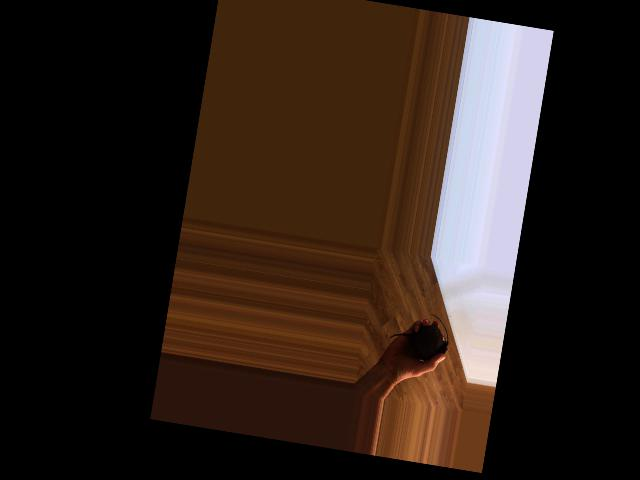beet: (387, 307, 453, 363)
